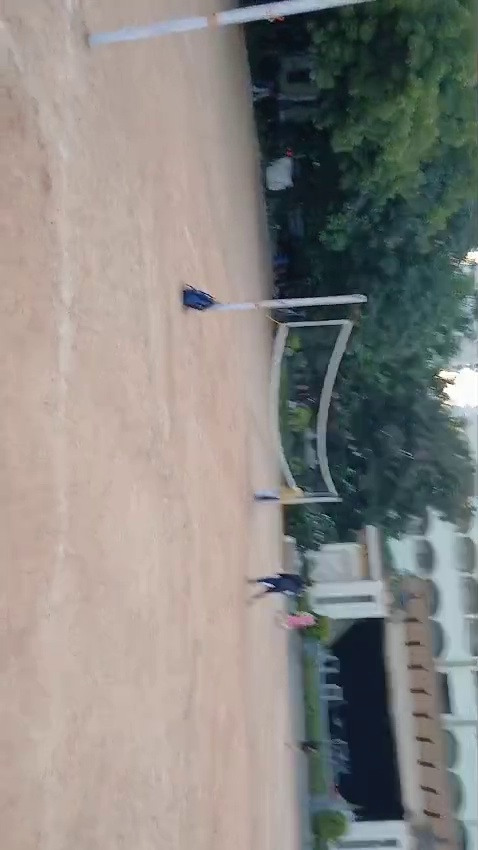bag: (173, 280, 229, 326)
